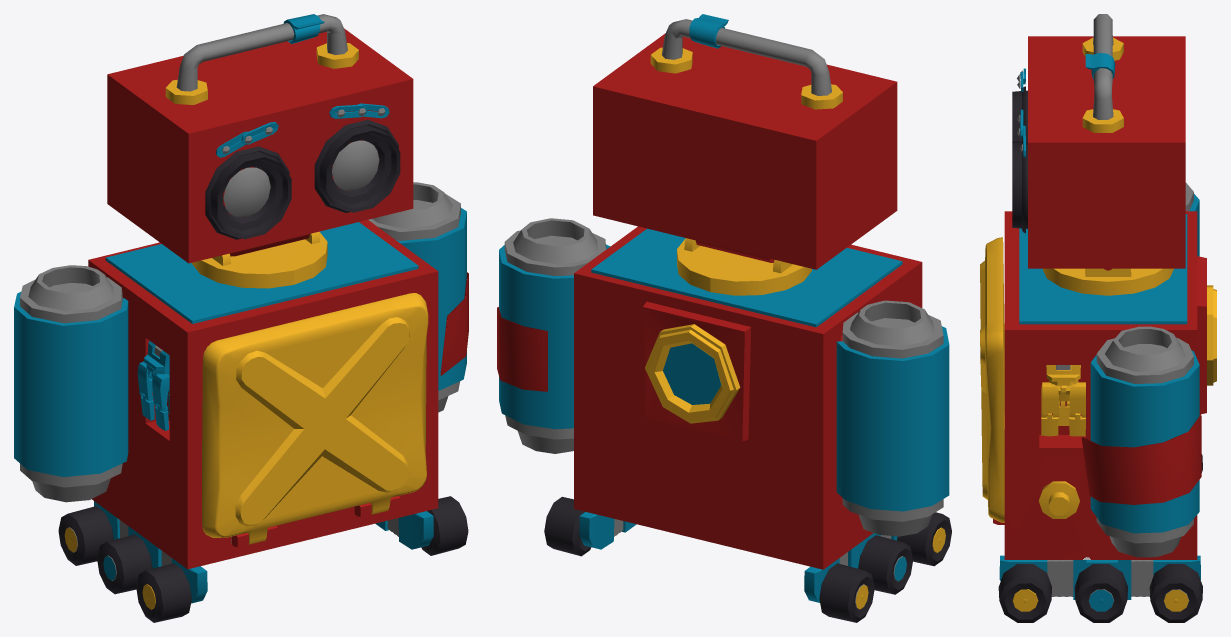
The model's file is SM_Glitch_Backpack.fbx.
3 views of the same model, side by side, from view 1: azimuth 30°, elevation 25°; view 2: azimuth 150°, elevation 25°; view 3: azimuth 270°, elevation 25° (orthographic). The views are drawn at different scales.
Visible parts, largest first — view 1: Glitch_Wheel_Back_R_GEO1; view 2: Glitch_Wheel_Back_R_GEO1; view 3: Glitch_Wheel_Back_R_GEO1.
Part boxes in pixels (x1=…): Glitch_Wheel_Back_R_GEO1: x1=14, y1=14, x2=468, y2=622; Glitch_Wheel_Back_R_GEO1: x1=497, y1=14, x2=951, y2=622; Glitch_Wheel_Back_R_GEO1: x1=980, y1=14, x2=1216, y2=622.
Size of the model in its own units: 0.415 by 0.473 by 0.1987.
